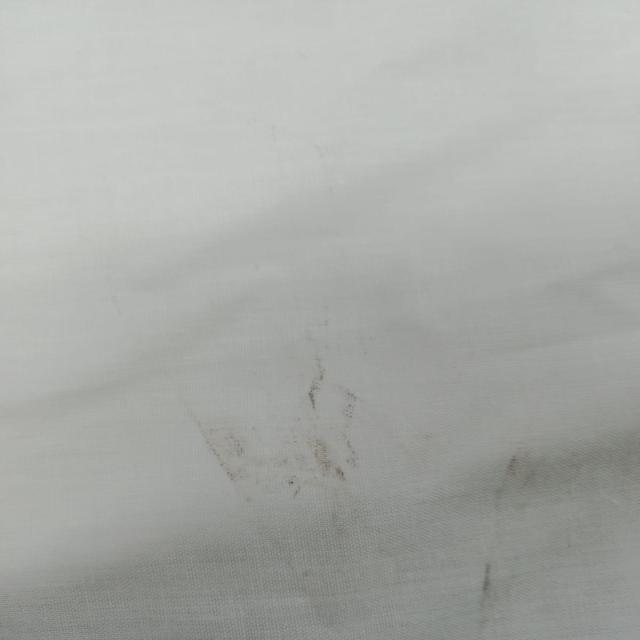stain: (183, 343, 372, 499), (459, 435, 566, 627)
